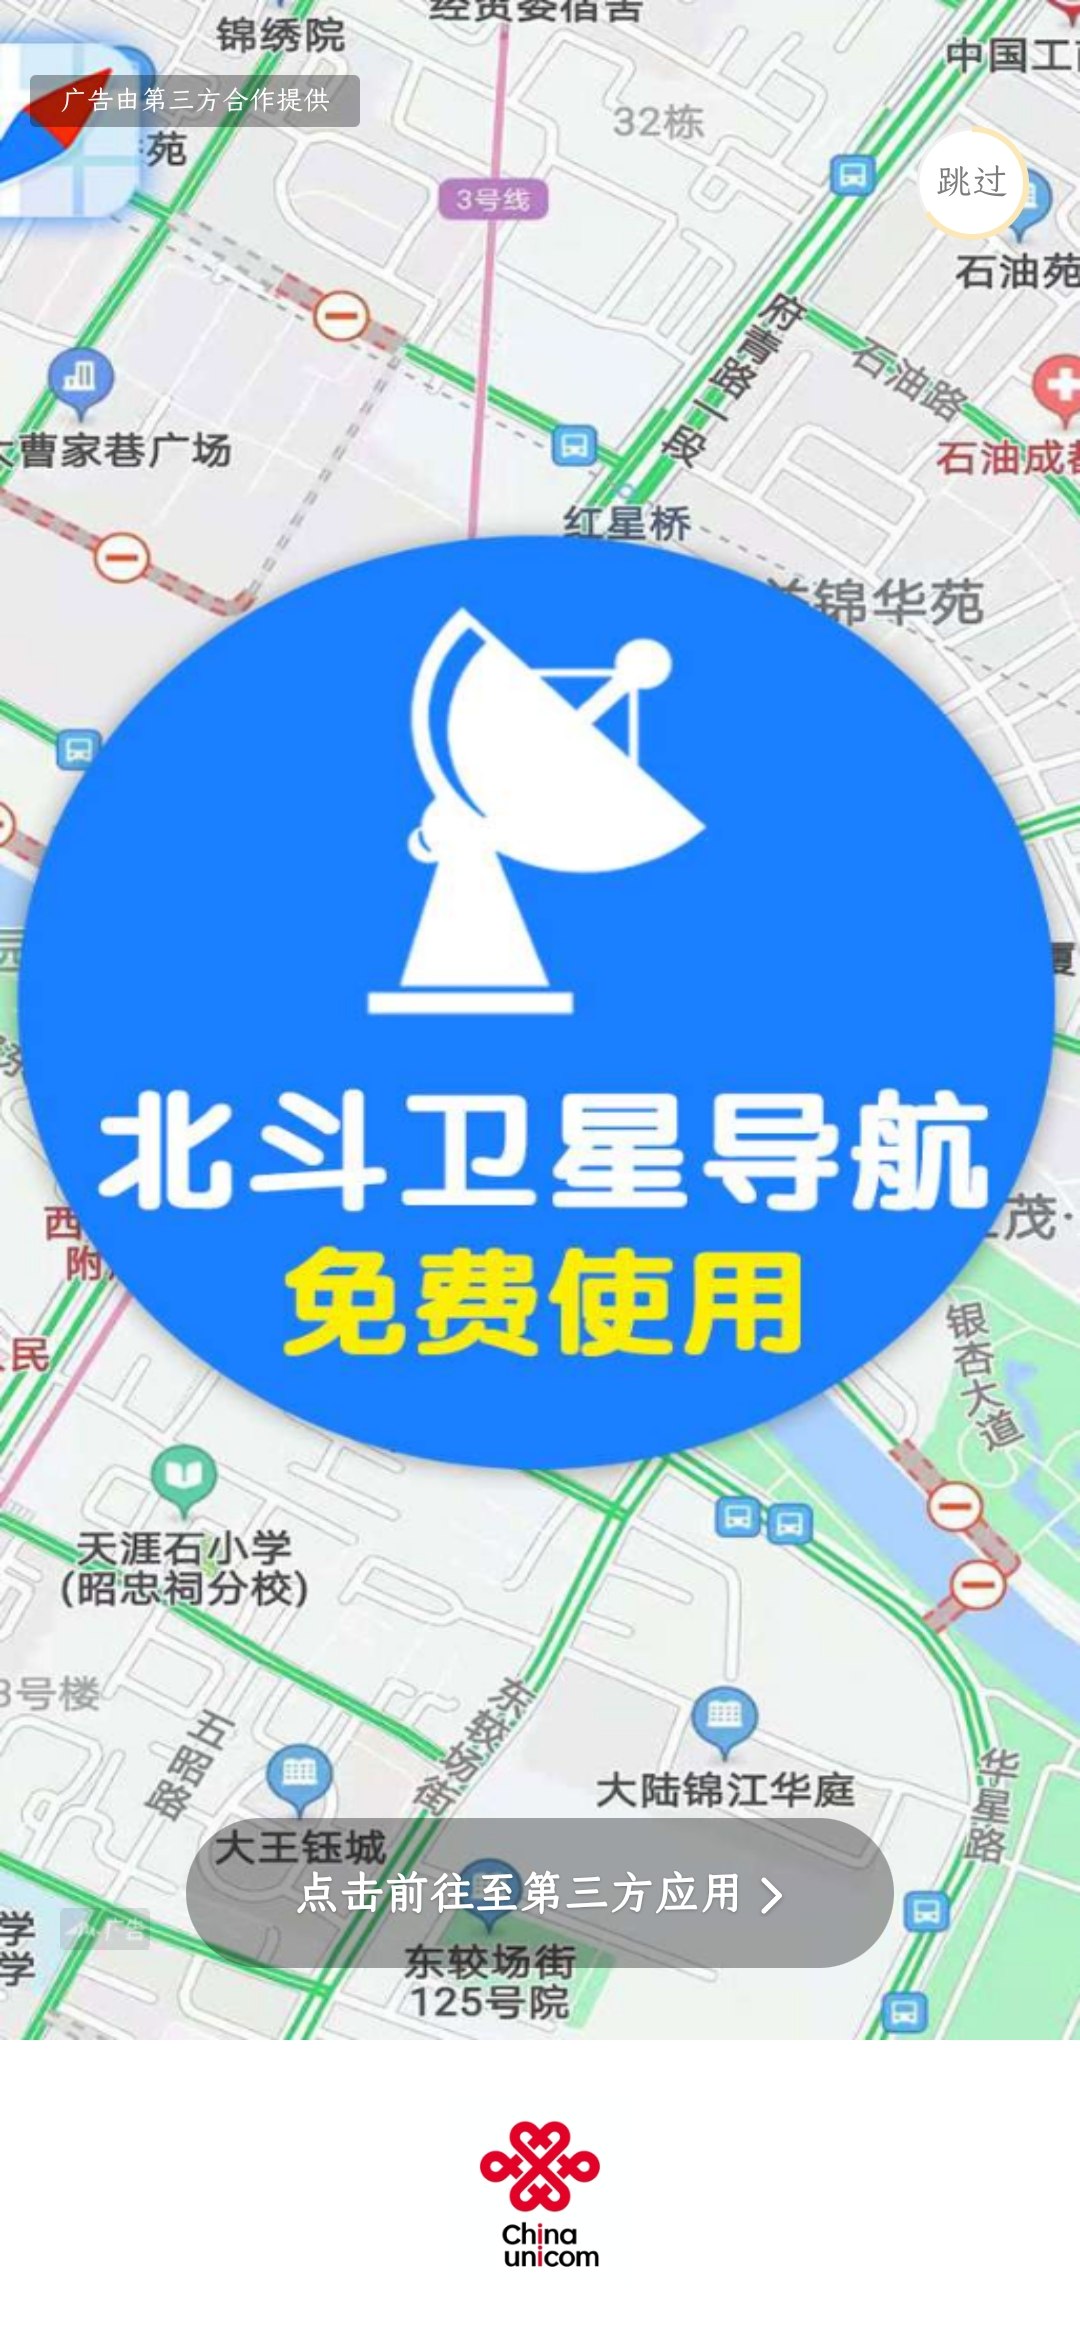skip: (920, 142, 1028, 219)
